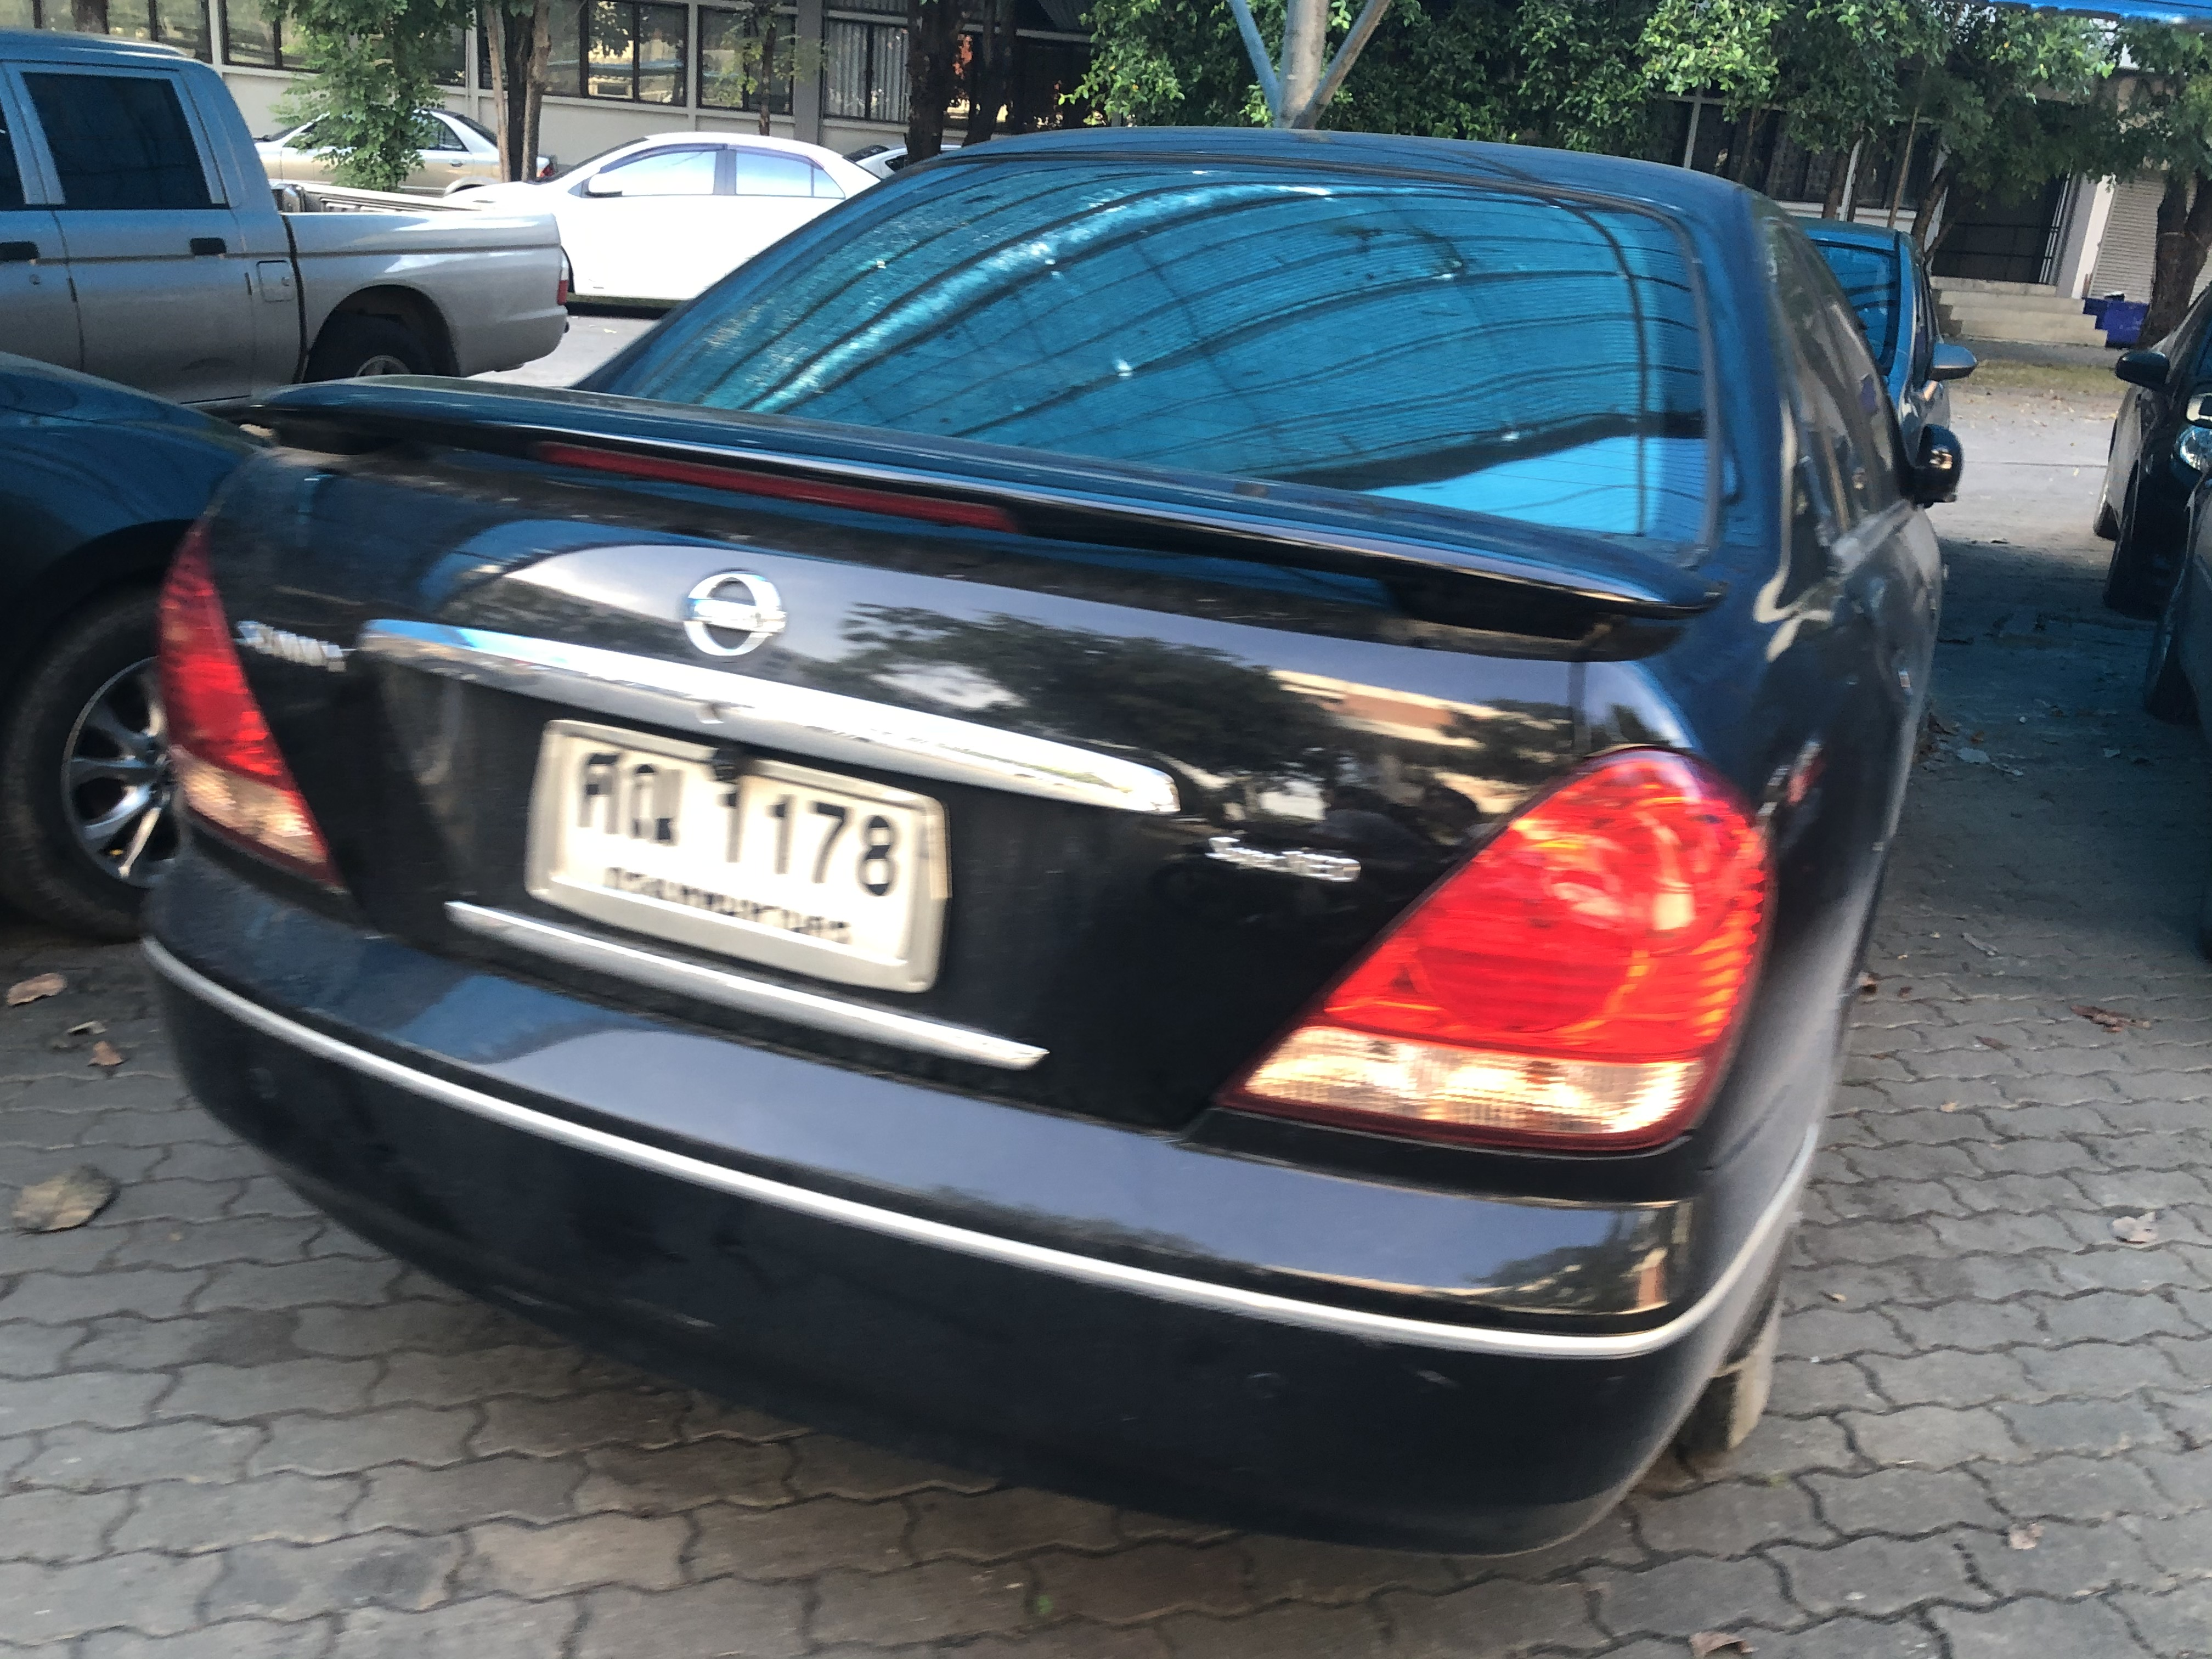in: (554, 734, 920, 969)
out: (523, 714, 956, 993)
